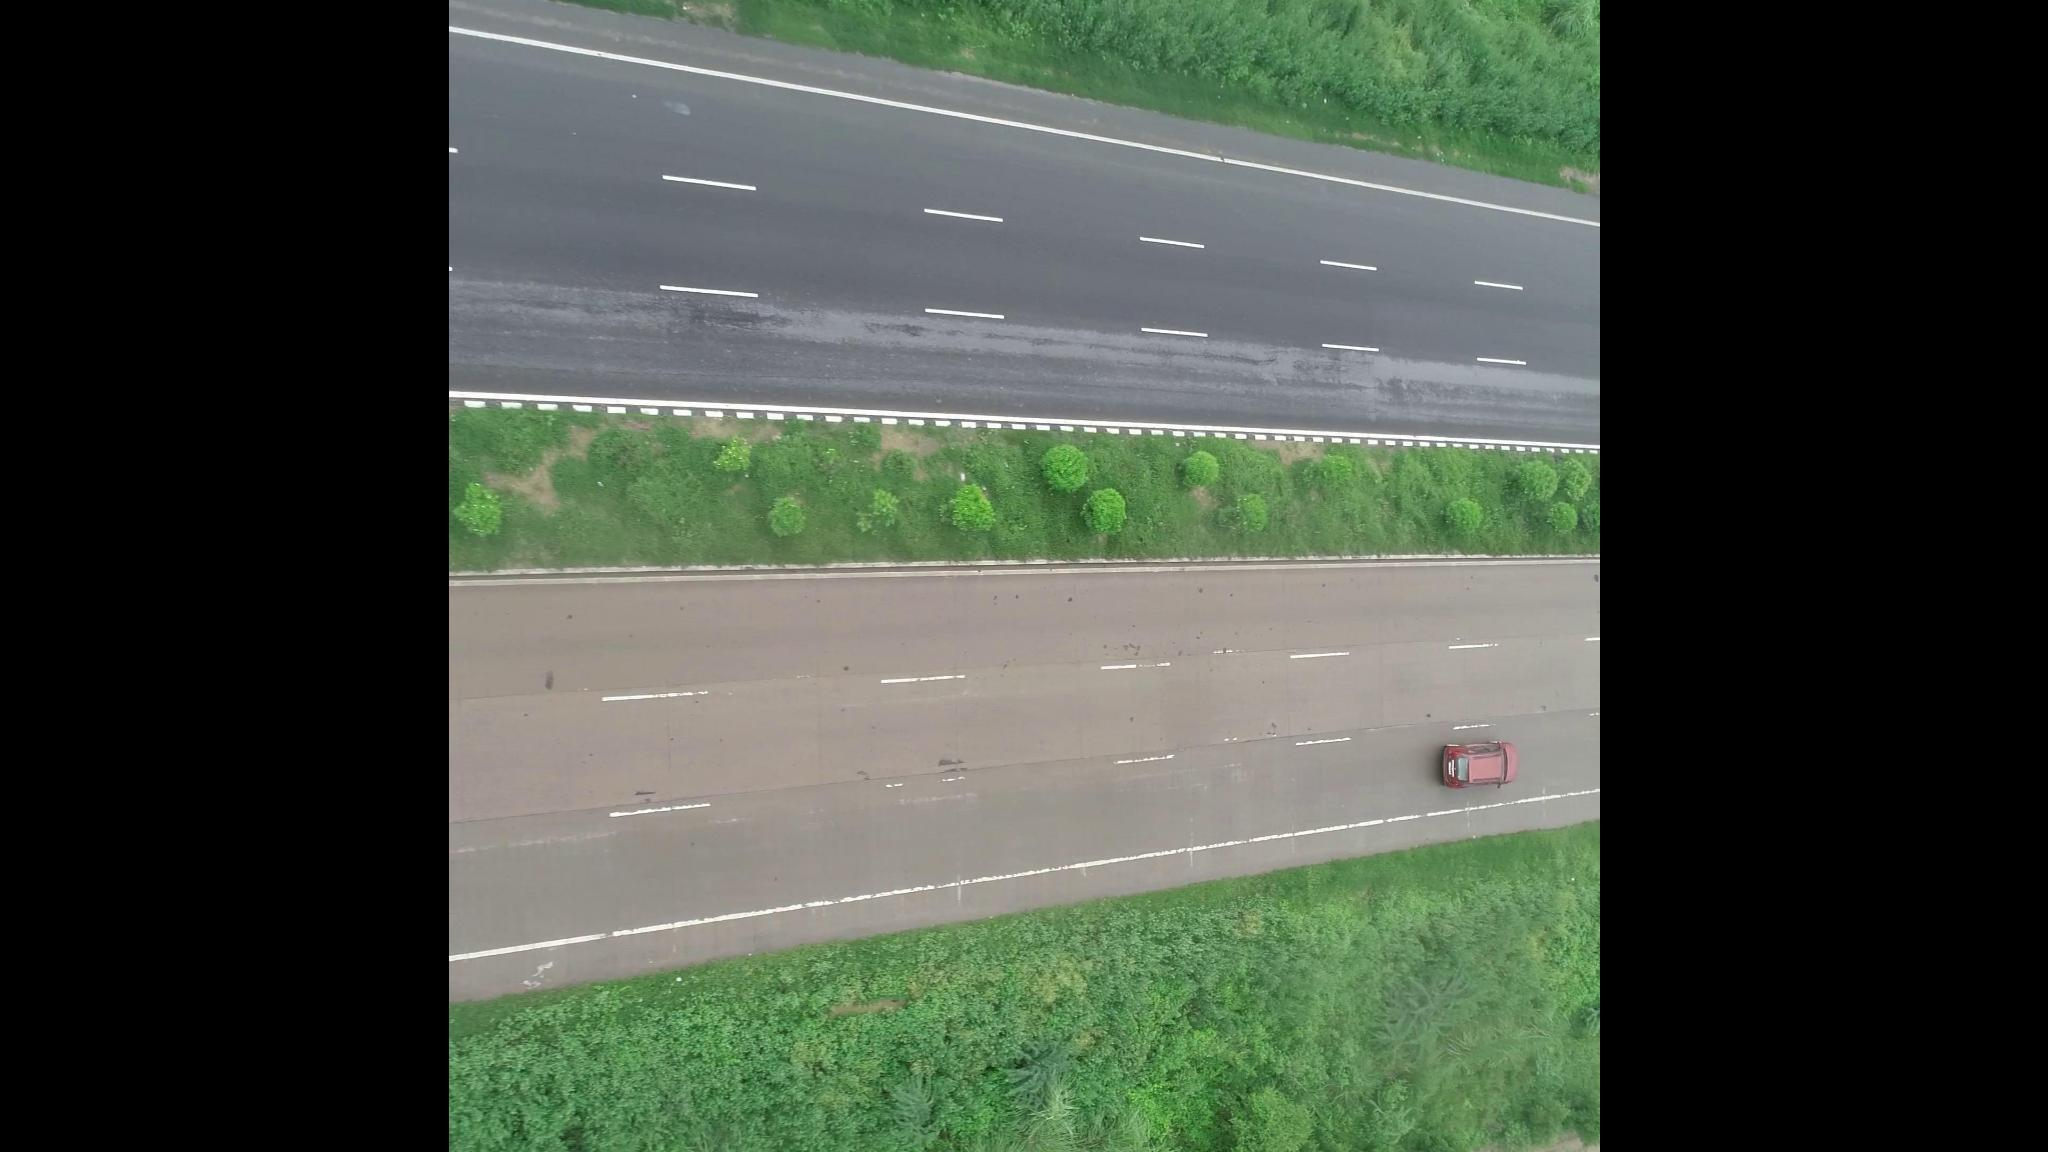Ravelling: (539, 288, 802, 339), (1146, 345, 1364, 390)
